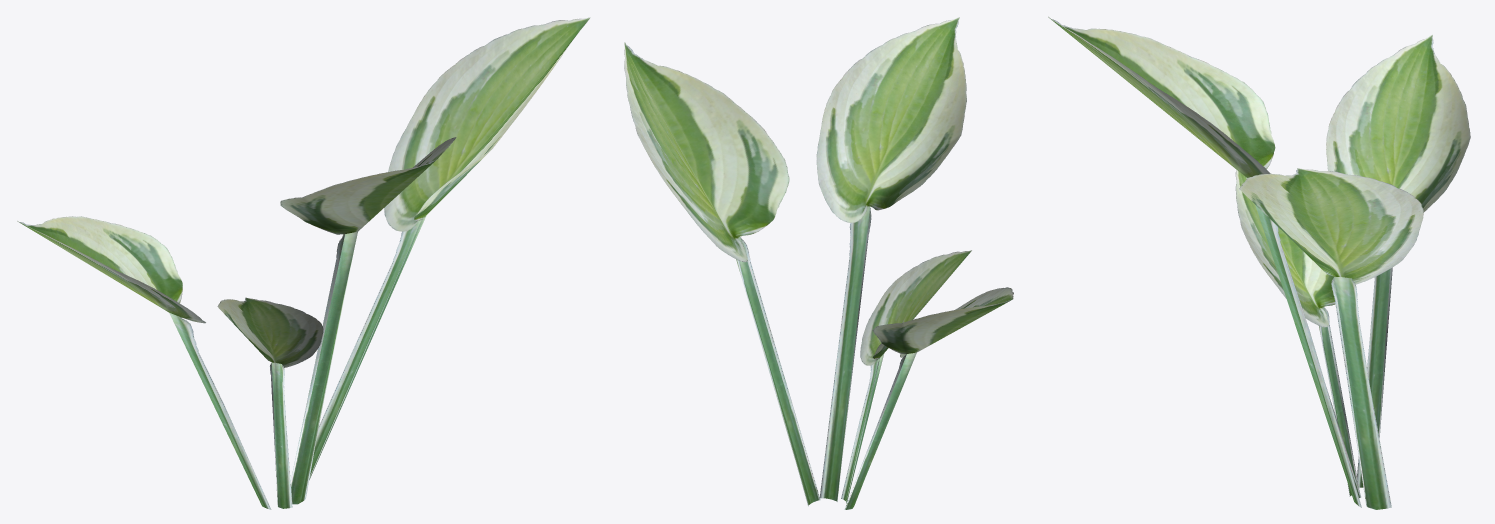
File: plant_small_wg_02R.fbx
3 renders of one model, left to right at view 1: azimuth 30°, elevation 25°; view 2: azimuth 150°, elevation 25°; view 3: azimuth 270°, elevation 25°, orthographic. The views are drawn at different scales.
Visible parts, largest first — view 1: plant_small_wg_02R; view 2: plant_small_wg_02R; view 3: plant_small_wg_02R.
Part boxes in pixels (left/top/right/bottom): plant_small_wg_02R: left=17, top=17, right=590, bottom=509; plant_small_wg_02R: left=624, top=17, right=1013, bottom=509; plant_small_wg_02R: left=1048, top=16, right=1470, bottom=509.
Bounding box in the file's own units: 53.85 × 45.18 × 36.78.
